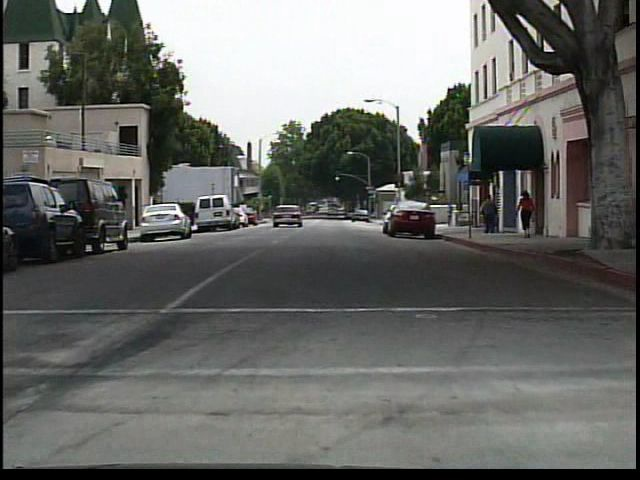person: (516, 185, 538, 241), (477, 192, 499, 237)
